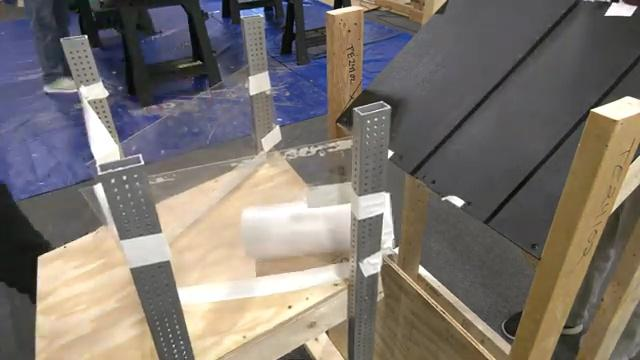CORAL: (238, 197, 394, 262)
